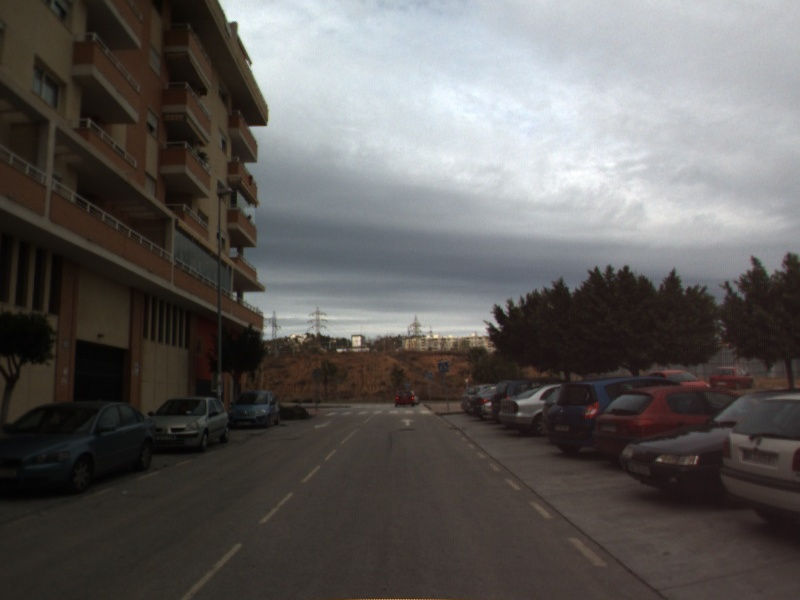STRAIGHT: (398, 416, 418, 428)
